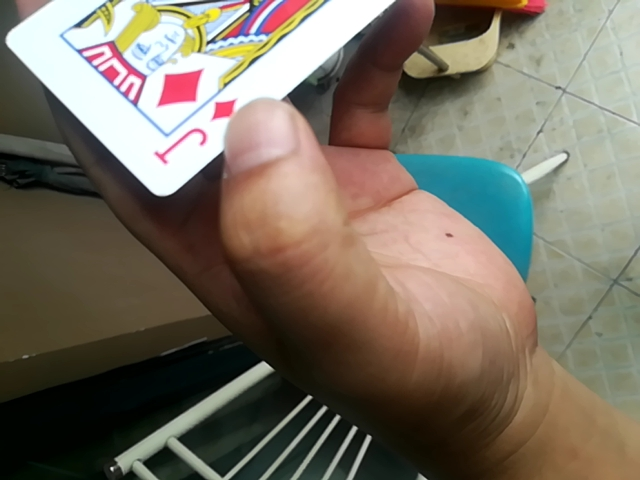fk j: (6, 0, 428, 204)
